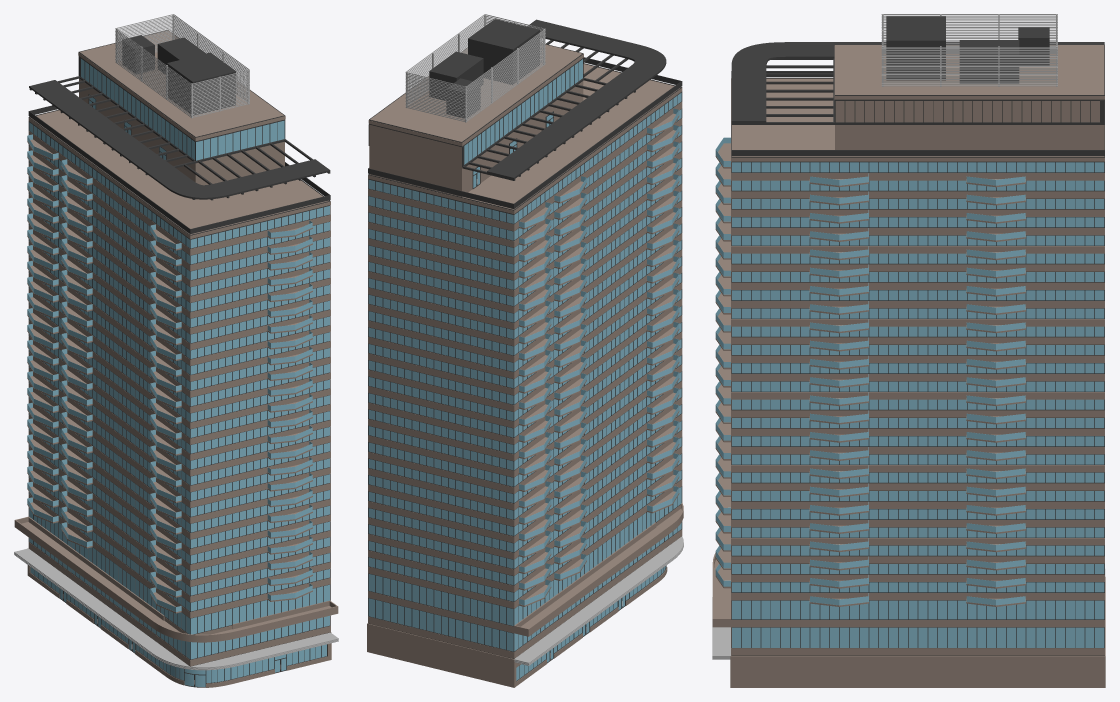
Rendered from skyscraper.glb.
3 views of the same model, side by side, from view 1: azimuth 30°, elevation 25°; view 2: azimuth 150°, elevation 25°; view 3: azimuth 270°, elevation 25° (orthographic). The views are drawn at different scales.
Visible parts, largest first — view 1: BUILDING-2; view 2: BUILDING-2; view 3: BUILDING-2.
Boxes of the visible parts, x1,y1,x2,y2 form: BUILDING-2: (14, 14, 338, 687); BUILDING-2: (367, 14, 683, 687); BUILDING-2: (712, 14, 1105, 687).
Bounding box in the file's own units: 4119 × 12880 × 7270.
